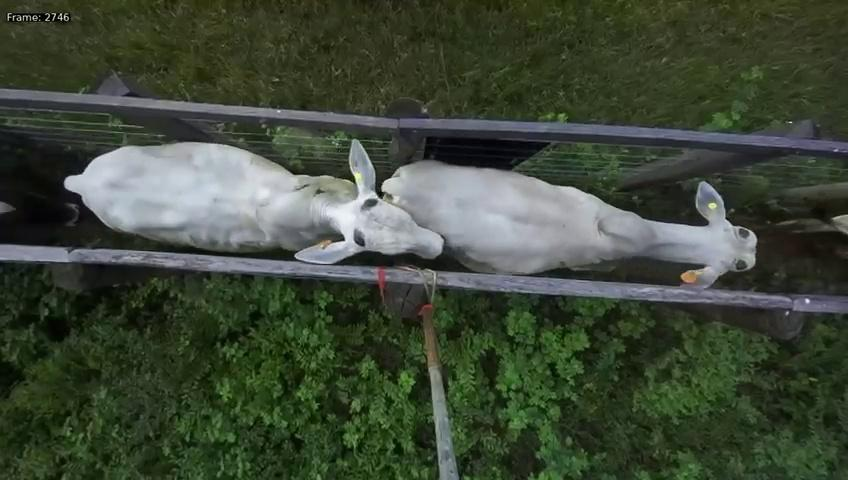cattle: (381, 151, 763, 297), (57, 130, 451, 269)
